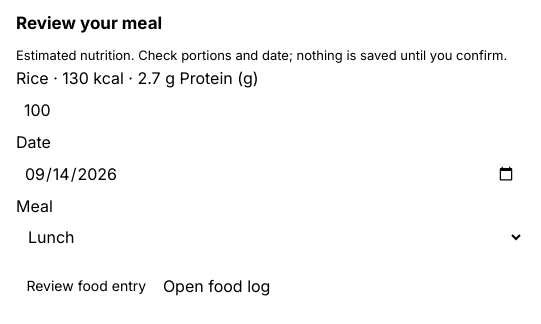
text Food functional review controls › invalidates the proposal when portion changes after review
The width and height of the screenshot is (541, 324).
Step 1. Click the button "Review food entry" → (86,286), box [16,264,156,308]
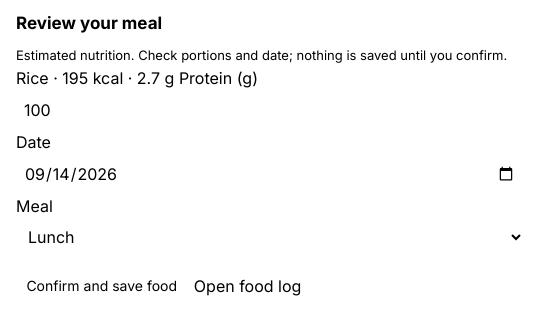
Expected: the button "Confirm and save food" is shown, [16,264,188,308]
Step 2. Replace the text in the number field with "200" → (270,110), box [16,90,524,130]
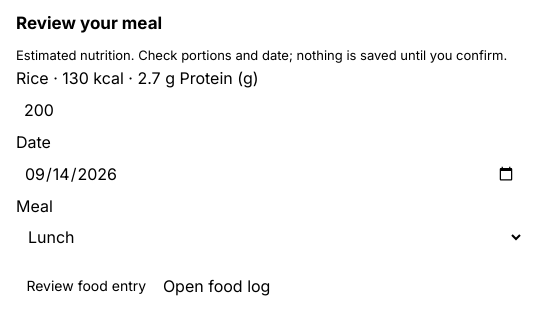
Expected: the button "Confirm and save food" is gone
